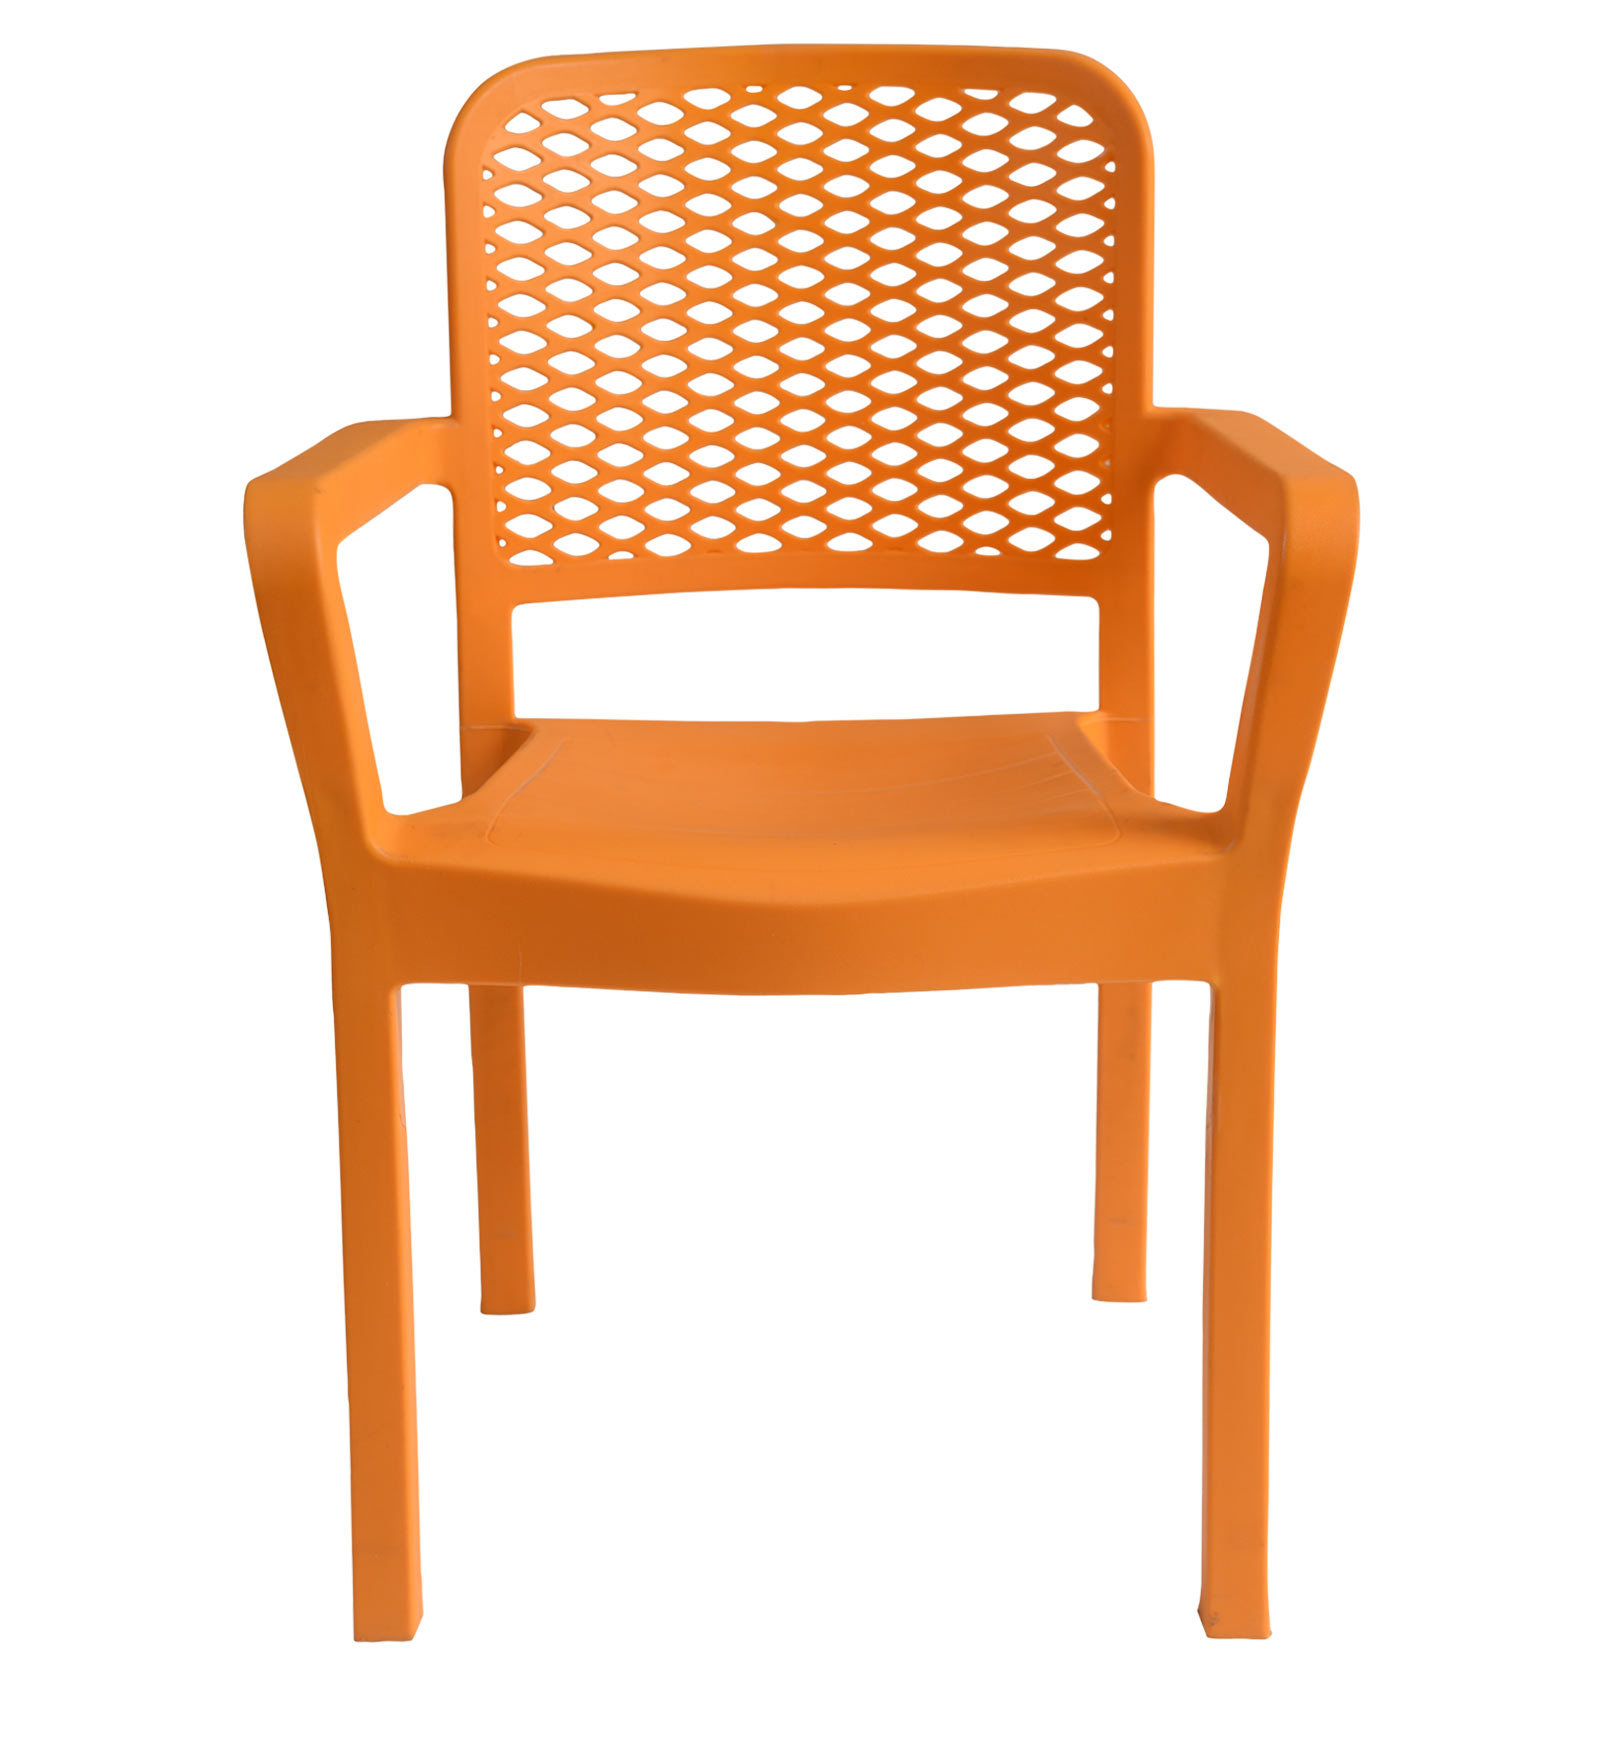Luxury Plastic Chair in Orange Colour by Italica Furniture: (238, 40, 1375, 1648)
